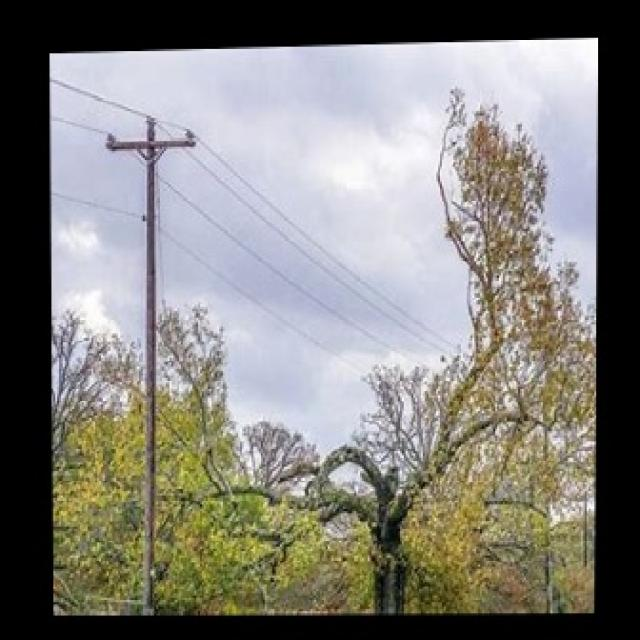utility poles: (94, 105, 220, 608)
